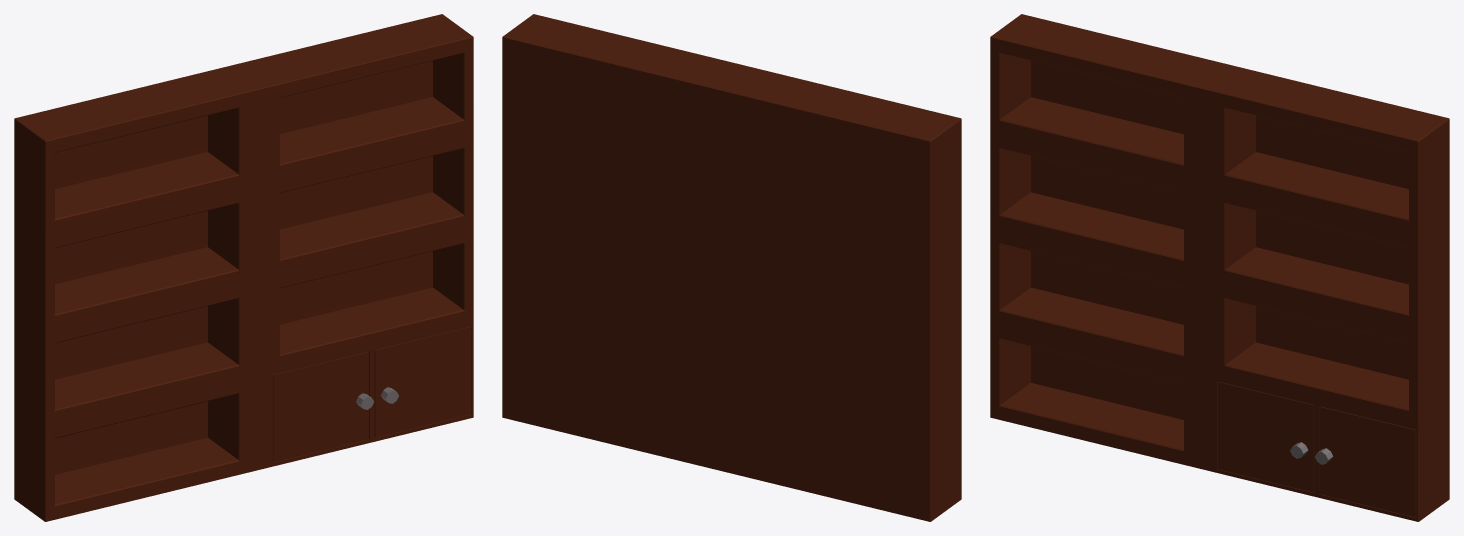
The model's file is MediumBookShelf1.glb.
3 renders of one model, left to right at view 1: azimuth 30°, elevation 25°; view 2: azimuth 150°, elevation 25°; view 3: azimuth 330°, elevation 25°, orthographic.
Visible parts, largest first — view 1: MediumBookShelf1, DoorLeft1_MediumBookShelf1, DoorRight1_MediumBookShelf1; view 2: MediumBookShelf1; view 3: MediumBookShelf1, DoorLeft1_MediumBookShelf1, DoorRight1_MediumBookShelf1.
Boxes of the visible parts, x1,y1,x2,y2 form: MediumBookShelf1: (14, 14, 473, 521); DoorLeft1_MediumBookShelf1: (374, 326, 471, 437); DoorRight1_MediumBookShelf1: (273, 351, 374, 462); MediumBookShelf1: (502, 14, 961, 521); MediumBookShelf1: (990, 14, 1449, 521); DoorLeft1_MediumBookShelf1: (1315, 406, 1416, 517); DoorRight1_MediumBookShelf1: (1218, 381, 1314, 492).
Bounding box in the file's own units: 2.78 × 2.36 × 0.4403.
